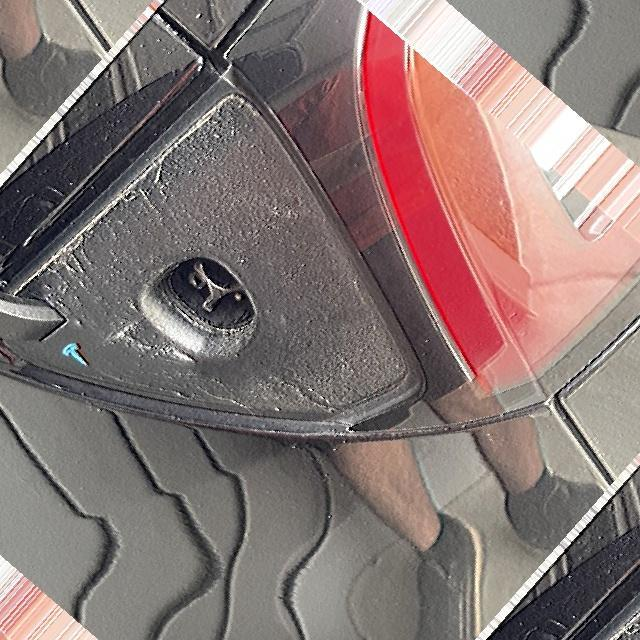Tesla Model-S-: (119, 250, 281, 368)
